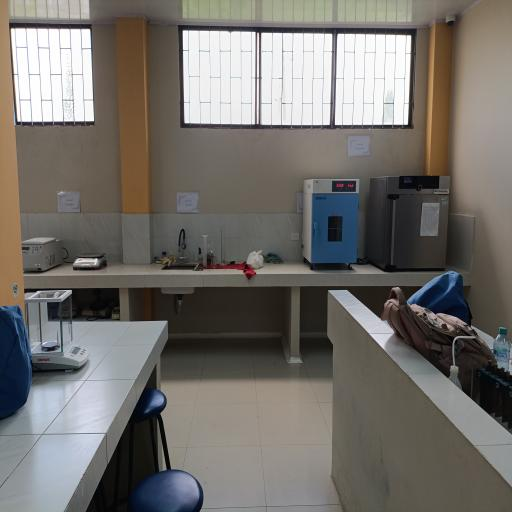Horno_Secado_Biobase: (298, 171, 364, 271)
Incubadora: (367, 170, 458, 278)
